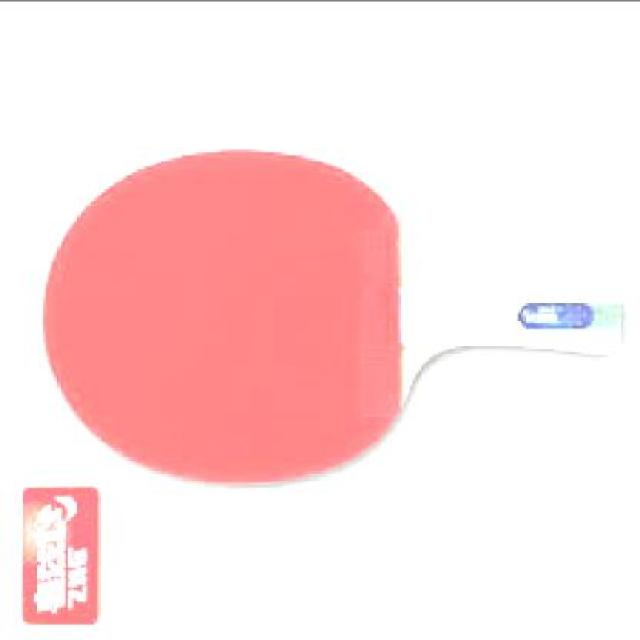table_tennis_racket: (42, 139, 440, 490)
